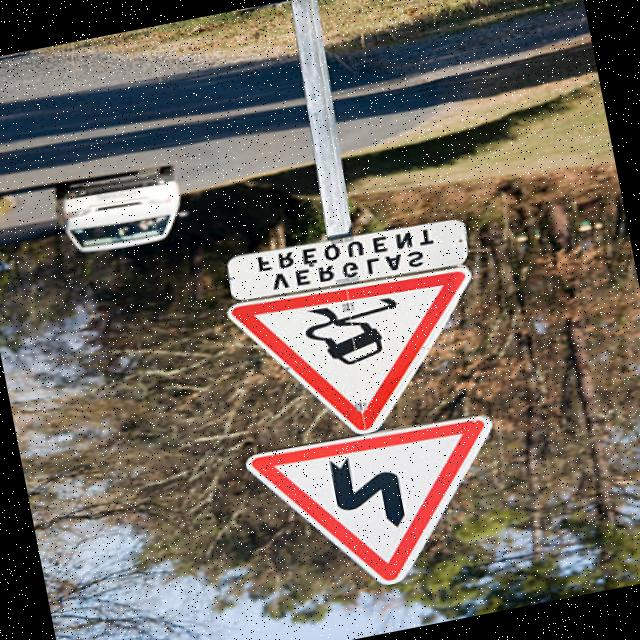road_slippery: (228, 256, 506, 457)
